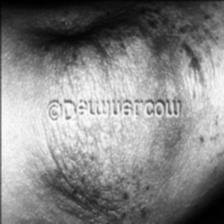Non-Cancerous Skin Condition: (177, 26, 215, 92)
